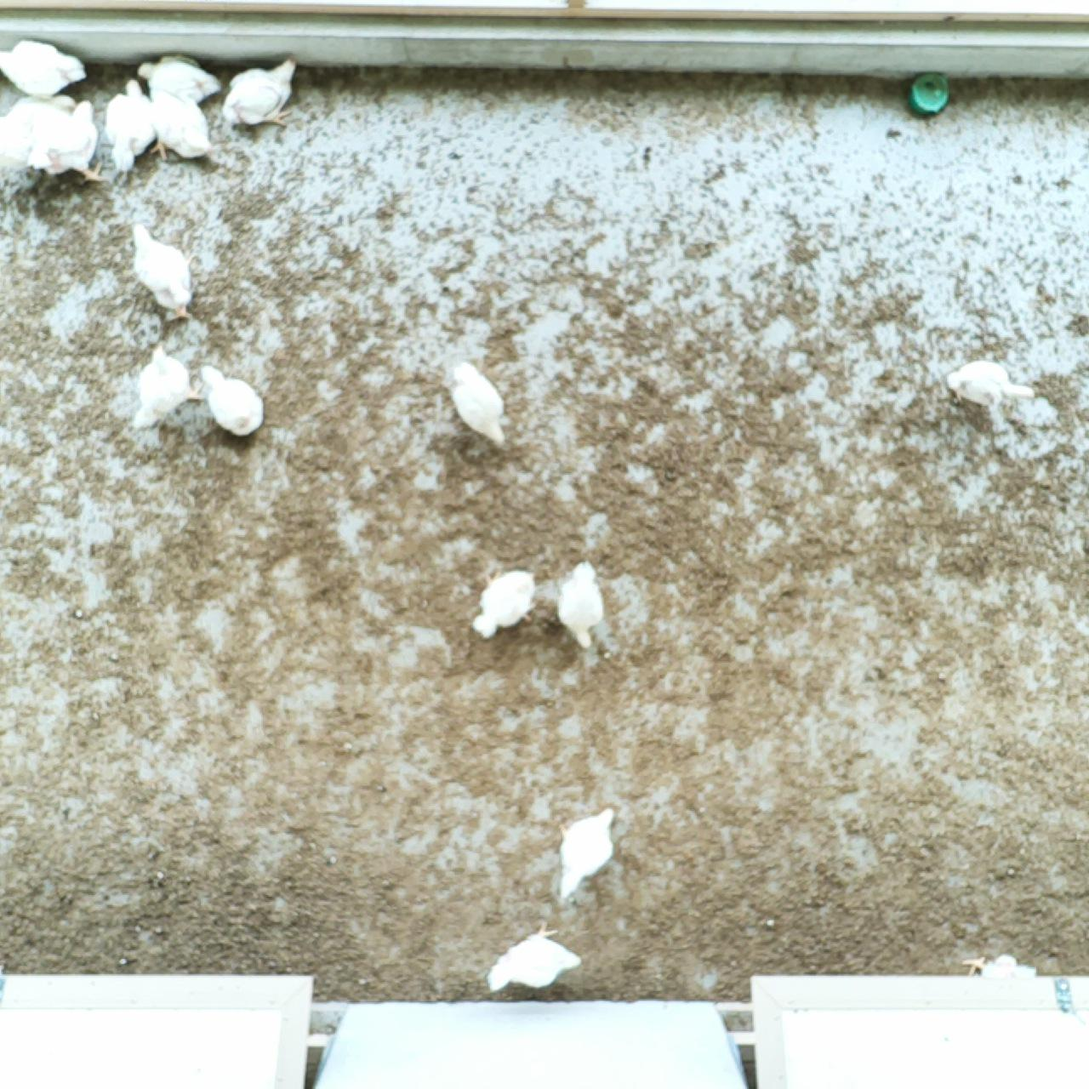chicken: (483, 918, 585, 996), (24, 99, 110, 188), (131, 341, 207, 433), (554, 805, 623, 903), (129, 221, 195, 323), (222, 56, 302, 132), (0, 34, 88, 101), (447, 358, 511, 450), (196, 359, 267, 440), (0, 93, 77, 167), (146, 84, 215, 165), (470, 566, 543, 641), (554, 557, 609, 650), (105, 76, 155, 174), (945, 357, 1036, 410), (135, 51, 221, 107), (961, 952, 1040, 980)
